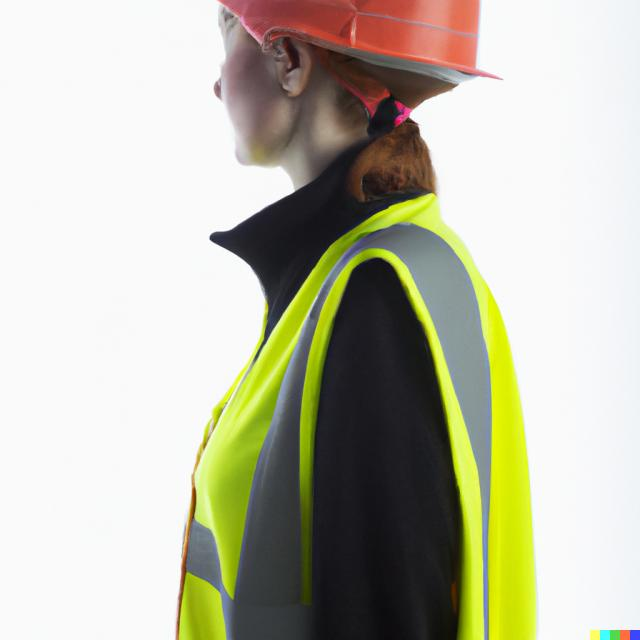Reflective-Jacket: (173, 172, 542, 640)
Safety-Helmet: (206, 1, 508, 100)
